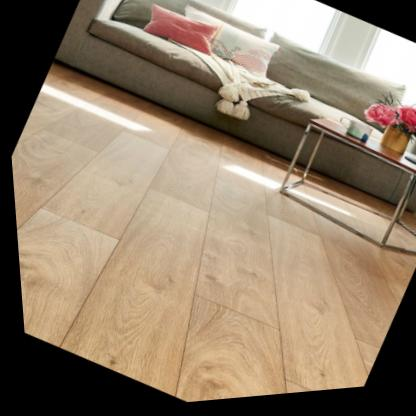Wooden floor: (9, 65, 416, 405)
